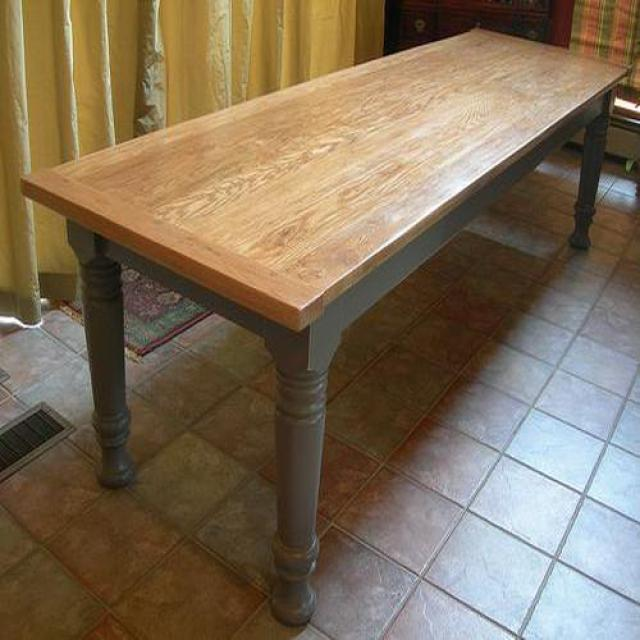table: (22, 29, 631, 626)
